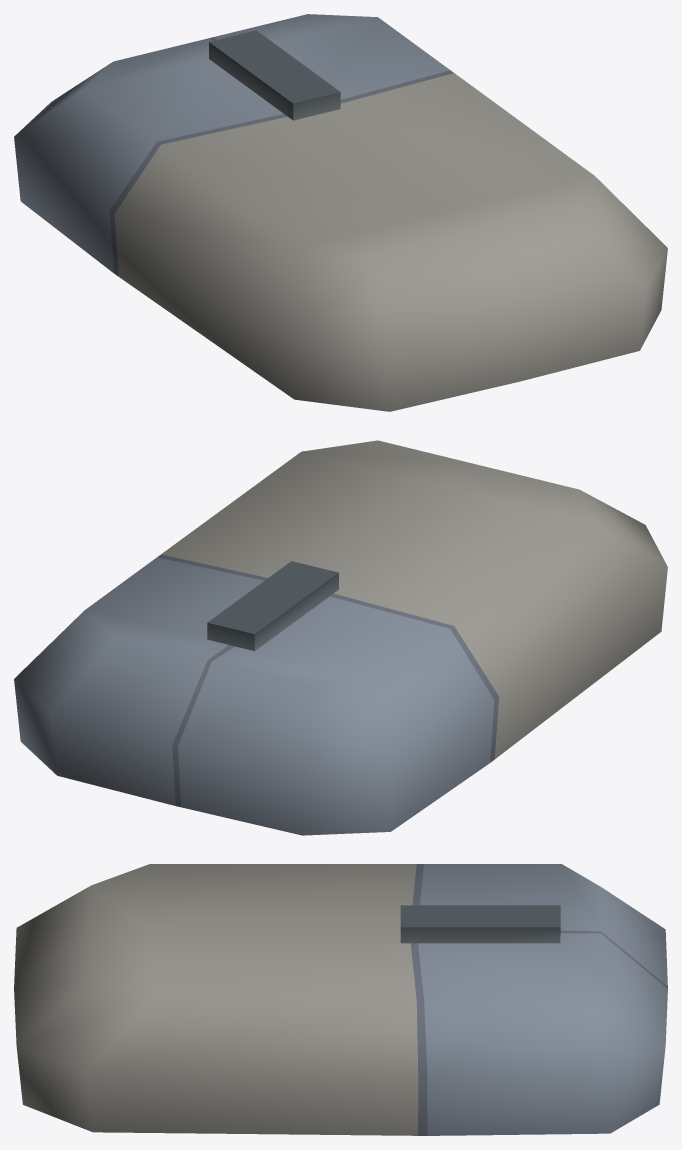
Rendered from ComputadorMouse.fbx.
The picture shows the model from 3 angles, top to bottom: view 1: azimuth 30°, elevation 25°; view 2: azimuth 150°, elevation 25°; view 3: azimuth 270°, elevation 25°; orthographic projection. The views are drawn at different scales.
Visible parts, largest first — view 1: MouseSmall; view 2: MouseSmall; view 3: MouseSmall.
Part boxes in pixels (box(x1,y1,x2,y2)): MouseSmall: box(14, 14, 667, 411); MouseSmall: box(14, 440, 667, 835); MouseSmall: box(14, 864, 667, 1135).
Size of the model in its own units: 7.86 by 2.76 by 12.16.
